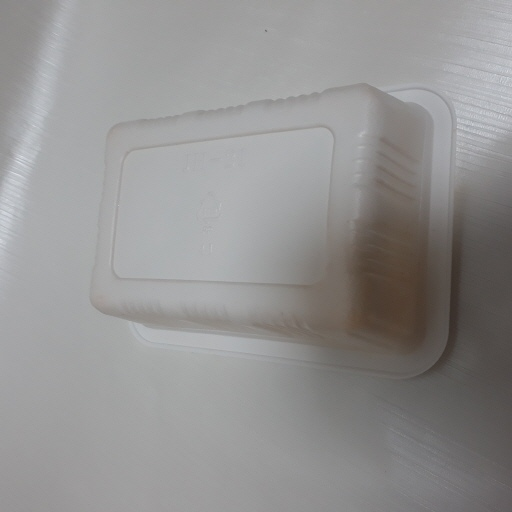Plastic_4: (88, 77, 454, 381)
